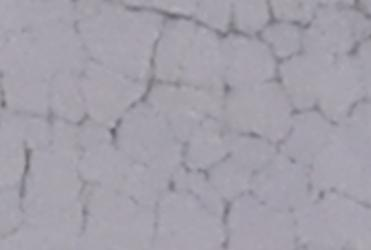fissura: (12, 8, 371, 250)
